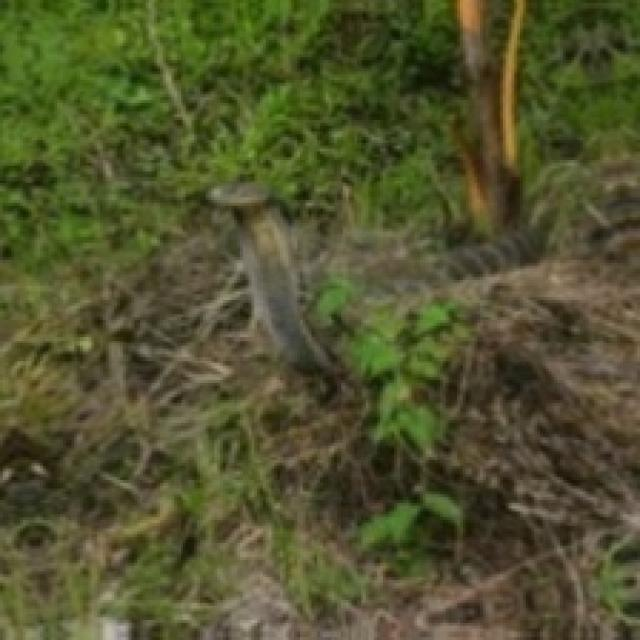king cobra: (209, 183, 340, 374), (206, 183, 337, 374), (571, 157, 637, 266)
